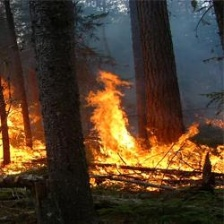fire: (90, 78, 224, 192), (1, 82, 49, 179)
